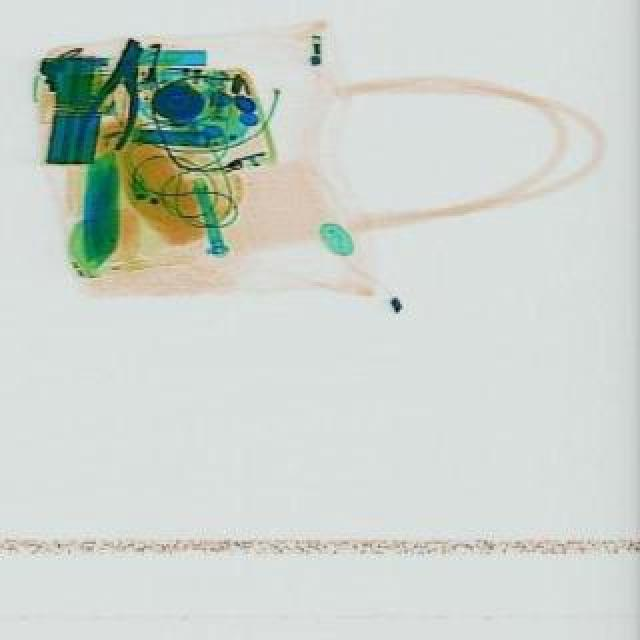wrench: (74, 36, 166, 164)
